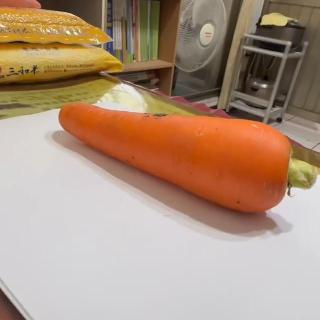carrot: (58, 100, 318, 216)
